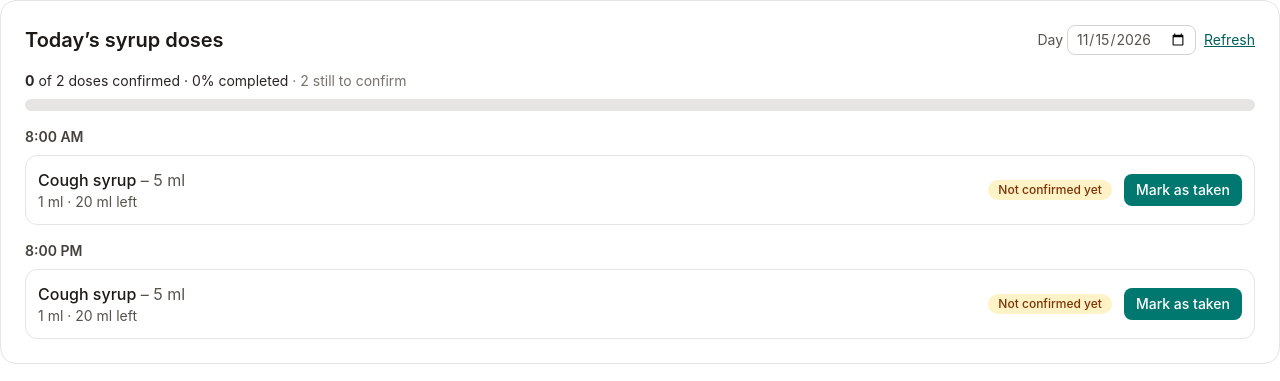
Scenario: syrup dose list (DoseTracker) › stays "not confirmed" until the backend confirms, then shows taken and updates progress and stock
This screenshot has width=1280, height=381.
Click the 1st button "Mark as taken" at (1183, 190), box [1124,174,1242,206]
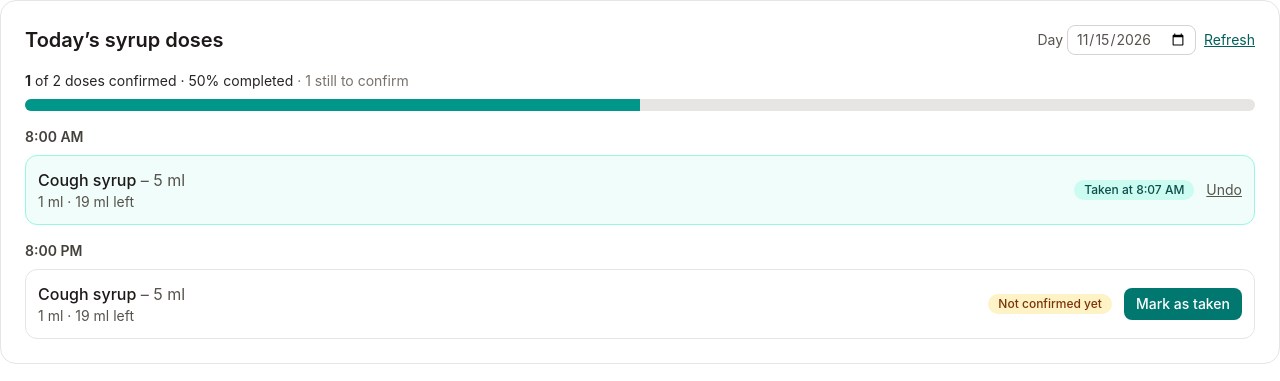
expect the text "Taken at 8:07 AM" is shown: met, box [1074,180,1194,200]
expect the text "1 of 2 doses confirmed · 50% completed · 1 still to confirm" is shown: met, box [25,72,409,89]
expect the button "Undo" is shown: met, box [1206,180,1242,200]
